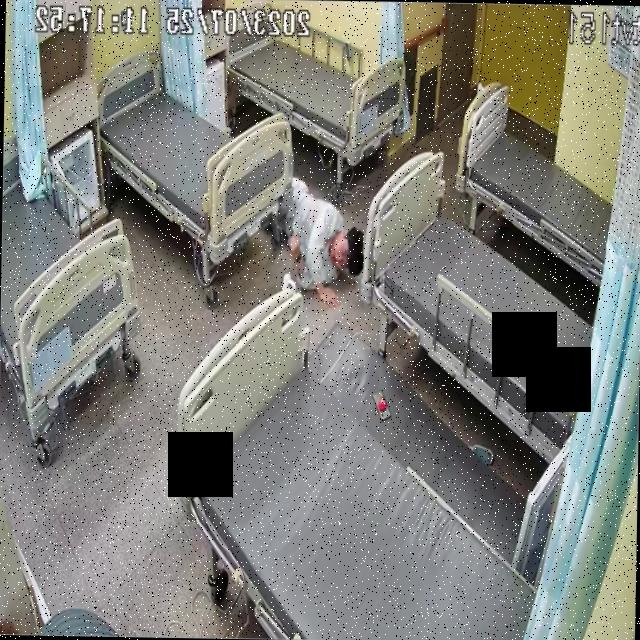bed: (182, 296, 542, 640), (362, 155, 601, 453), (0, 136, 139, 431), (97, 58, 296, 242), (454, 81, 616, 281), (226, 15, 402, 164)
fall: (276, 177, 358, 304)
patient: (276, 170, 359, 301)
